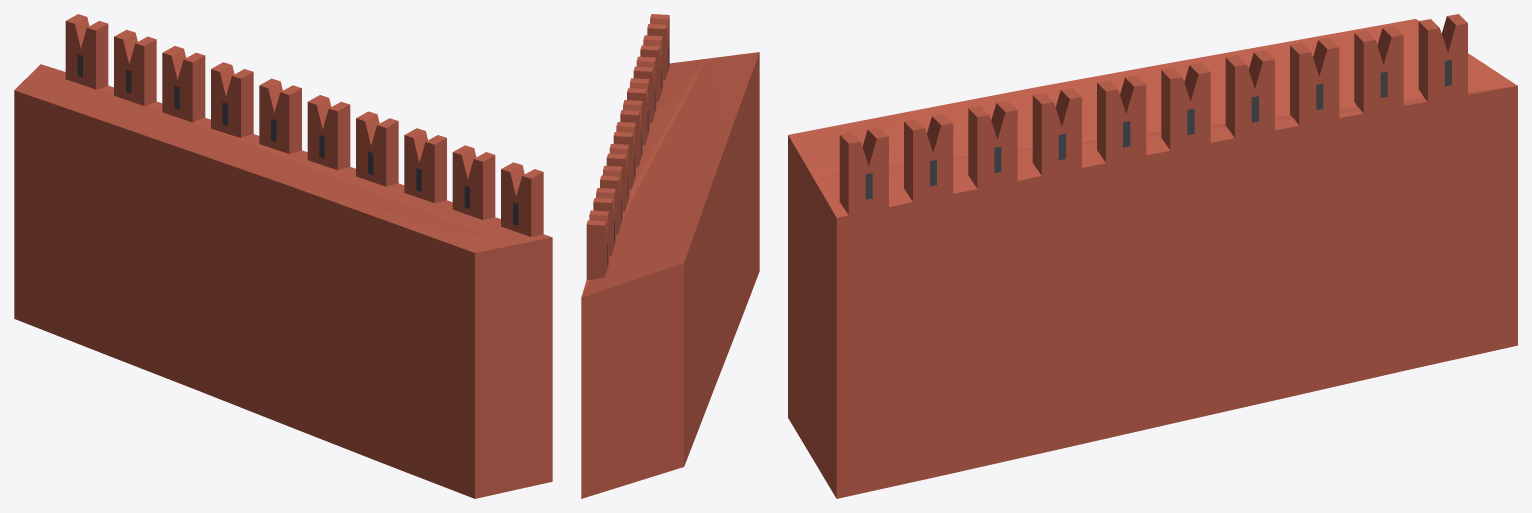
The model's file is moscow-kremlin-wall-saviour-tsars.glb.
3 renders of one model, left to right at view 1: azimuth 30°, elevation 25°; view 2: azimuth 150°, elevation 25°; view 3: azimuth 270°, elevation 25°, orthographic. The views are drawn at different scales.
Parts seen in each view (by area): view 1: Kremlin Wall, Saviour Tower to Tsar's Tower; view 2: Kremlin Wall, Saviour Tower to Tsar's Tower; view 3: Kremlin Wall, Saviour Tower to Tsar's Tower.
Boxes of the visible parts, bbox=[...] form: Kremlin Wall, Saviour Tower to Tsar's Tower: bbox=[14, 14, 552, 498]; Kremlin Wall, Saviour Tower to Tsar's Tower: bbox=[581, 14, 759, 498]; Kremlin Wall, Saviour Tower to Tsar's Tower: bbox=[788, 14, 1517, 498].
Bounding box in the file's own units: 10.92 × 11.48 × 20.9.
